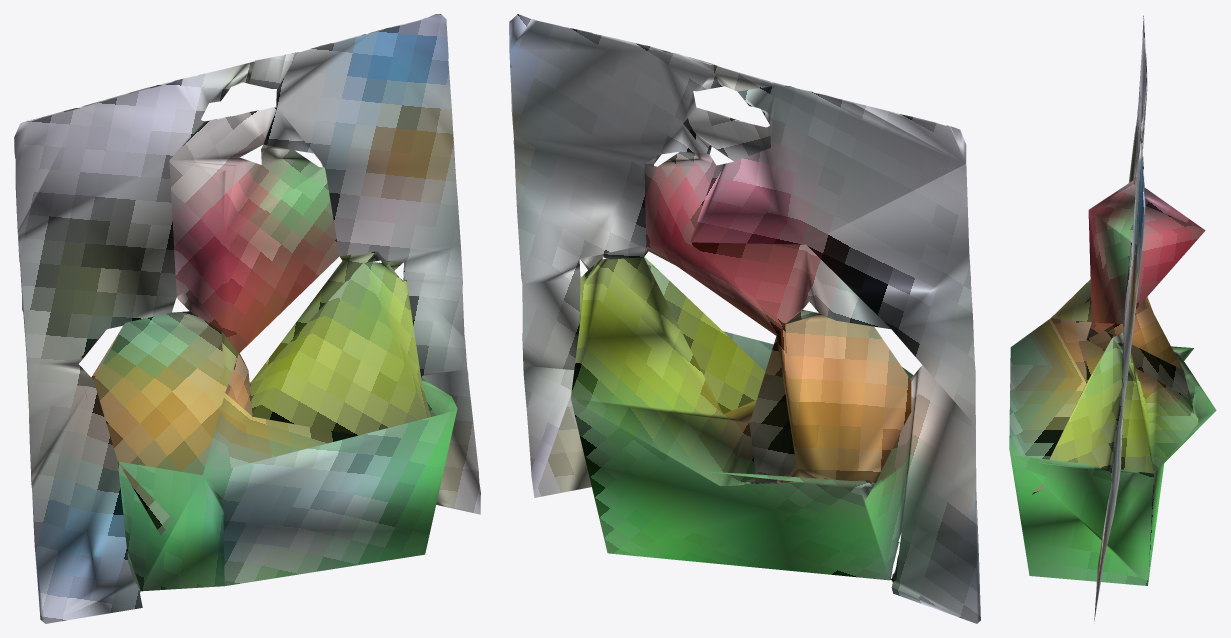
Rendered from Fruity_Friends-low.glb.
3 renders of one model, left to right at view 1: azimuth 30°, elevation 25°; view 2: azimuth 150°, elevation 25°; view 3: azimuth 270°, elevation 25°, orthographic. The views are drawn at different scales.
Parts seen in each view (by area): view 1: Fruity_Friends; view 2: Fruity_Friends; view 3: Fruity_Friends.
Boxes of the visible parts, bbox=[...] form: Fruity_Friends: bbox=[14, 14, 480, 623]; Fruity_Friends: bbox=[509, 14, 980, 623]; Fruity_Friends: bbox=[1009, 15, 1216, 621].
Size of the model in its own units: 0.1597 by 0.1713 by 0.0735.
Materials: 1 (1 with a texture image).
